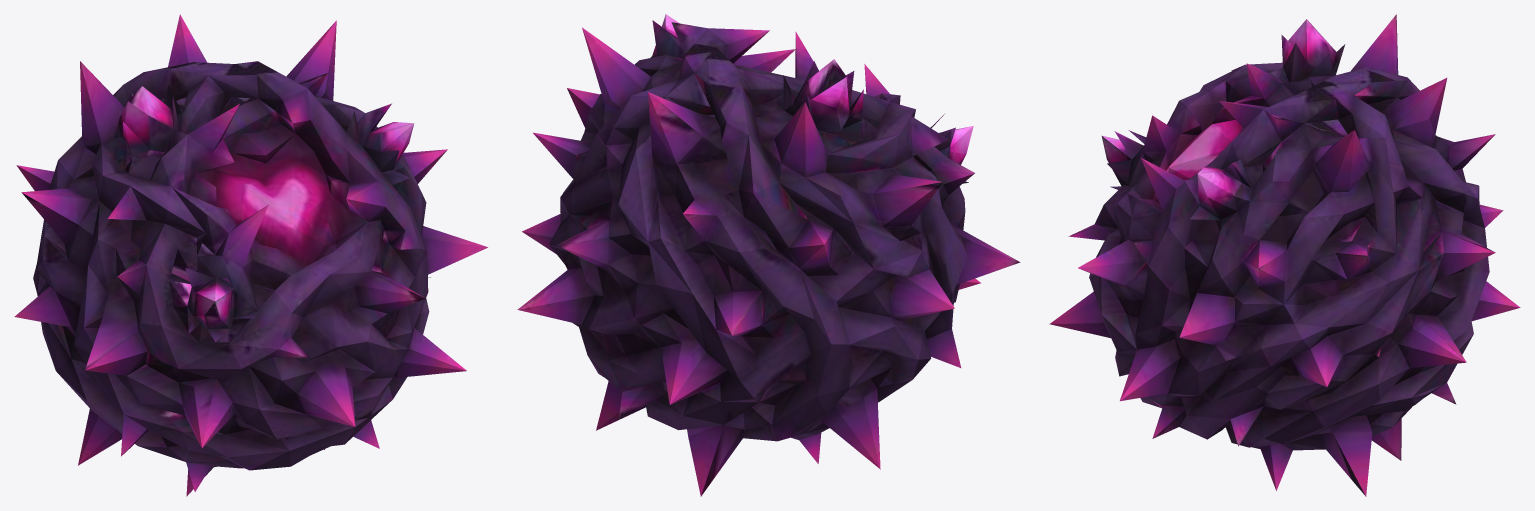
Rendered from m_ronce_roulante.glb.
3 views of the same model, side by side, from view 1: azimuth 30°, elevation 25°; view 2: azimuth 150°, elevation 25°; view 3: azimuth 270°, elevation 25° (orthographic). The views are drawn at different scales.
Visible parts, largest first — view 1: monstre; view 2: monstre; view 3: monstre.
Part boxes in pixels (x1=…): monstre: x1=14, y1=14, x2=487, y2=496; monstre: x1=517, y1=14, x2=1020, y2=496; monstre: x1=1049, y1=14, x2=1520, y2=496.
Size of the model in its own units: 1 by 0.9447 by 0.9967.
1 material, 1 textured.
